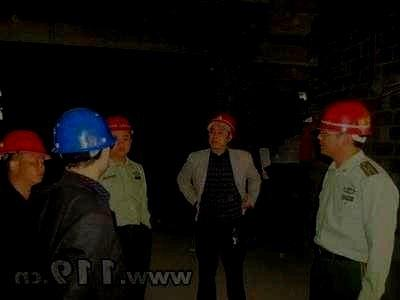helmet: (51, 108, 117, 175), (315, 100, 372, 157), (1, 130, 51, 184), (106, 116, 134, 155), (207, 113, 236, 149)
